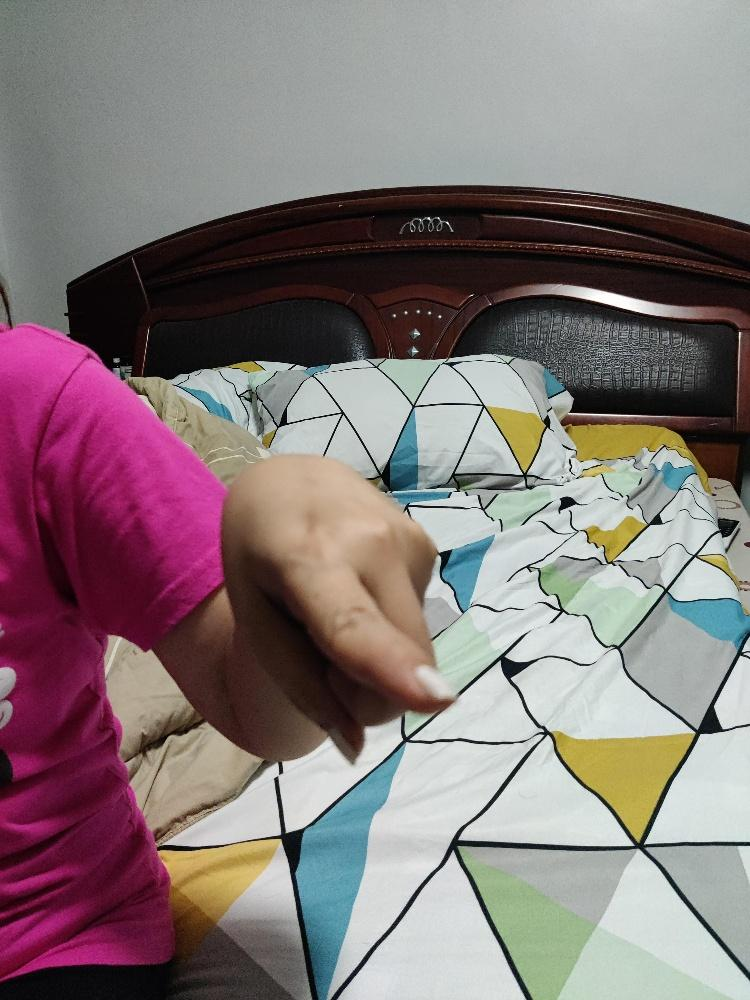z: (218, 449, 455, 768)
